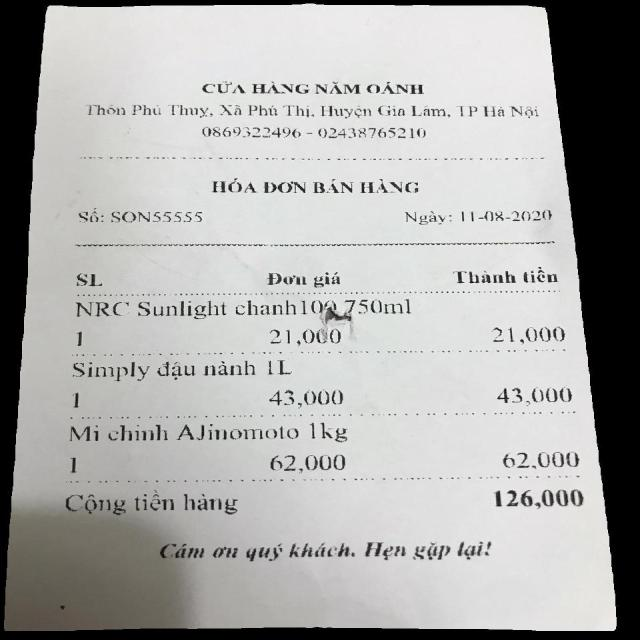Date: (456, 205, 556, 222)
Store_Name: (197, 76, 432, 100)
amount_number: (483, 485, 592, 508)
label_total: (62, 488, 245, 518)
